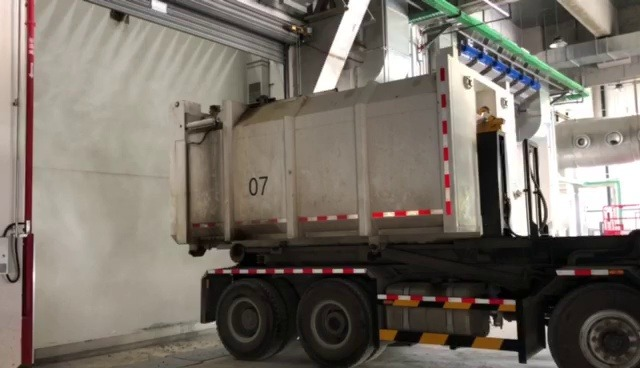dust: (36, 127, 171, 314)
truck: (176, 34, 640, 368)
